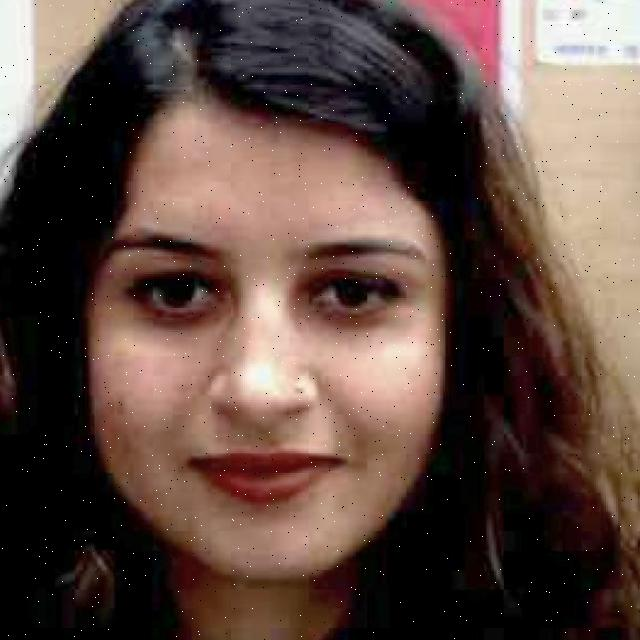puffy_eyes: (133, 294, 225, 335), (295, 307, 396, 341)
